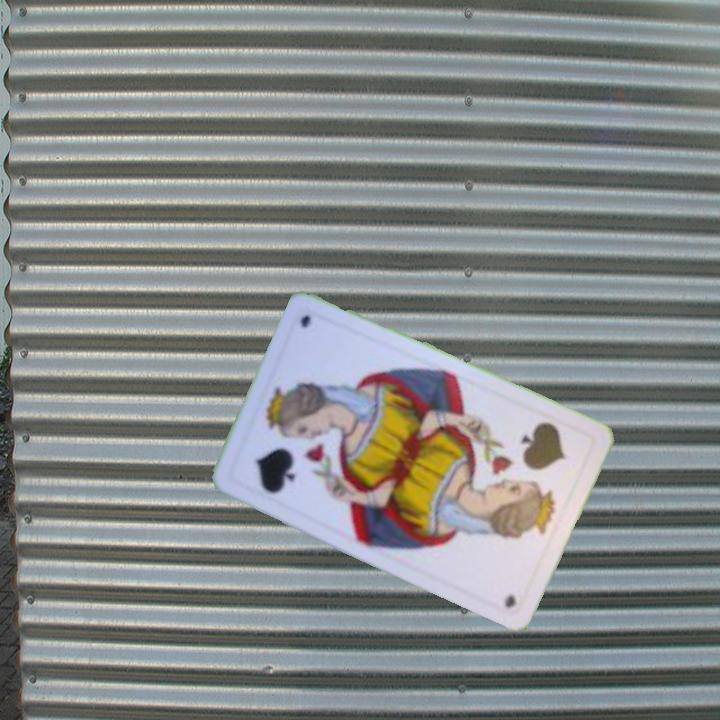s_q.png: (225, 391, 343, 516), (479, 403, 596, 528)
